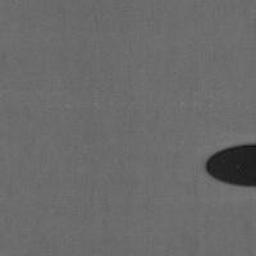Punching: (206, 144, 256, 187)
